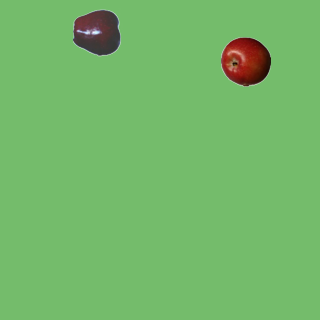Apple Braeburn: (220, 36, 270, 86)
Apple Red Delicious: (72, 7, 122, 57)
